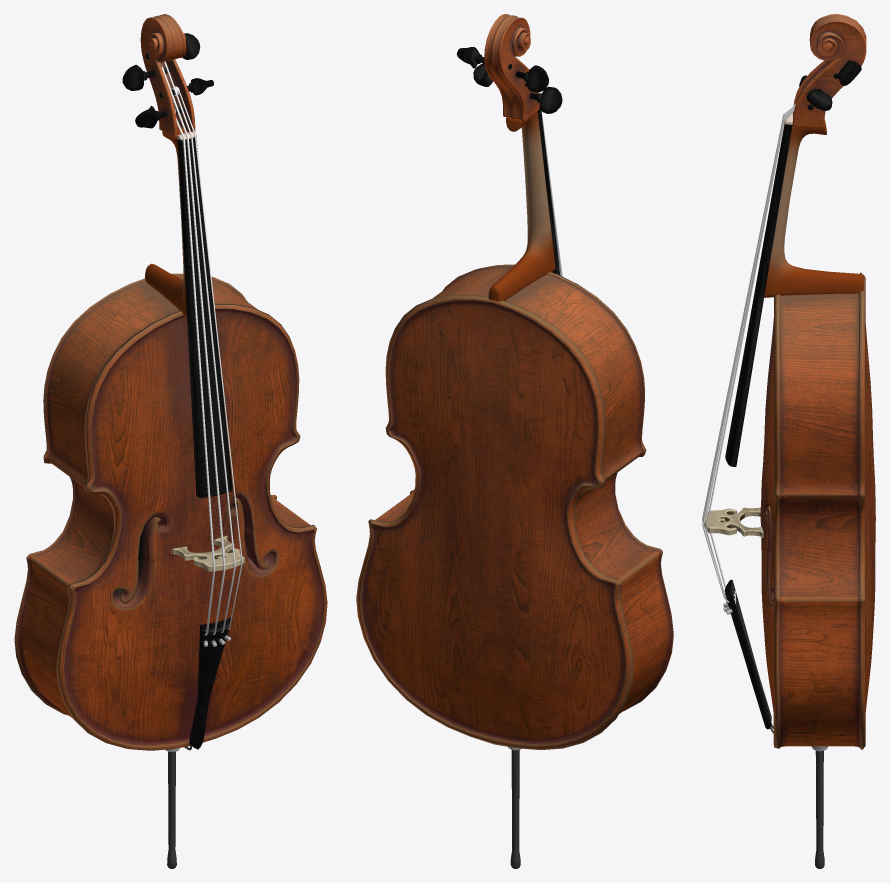
The picture shows the model from 3 angles, left to right: view 1: azimuth 30°, elevation 25°; view 2: azimuth 150°, elevation 25°; view 3: azimuth 270°, elevation 25°; orthographic projection.
Parts seen in each view (by area): view 1: cello; view 2: cello; view 3: cello.
Boxes of the visible parts, x1,y1,x2,y2 form: cello: (14, 14, 327, 868); cello: (356, 14, 673, 868); cello: (702, 14, 875, 868).
Bounding box in the file's own units: 0.4763 × 1.4 × 0.2598.
Materials: 2 (2 with a texture image).
